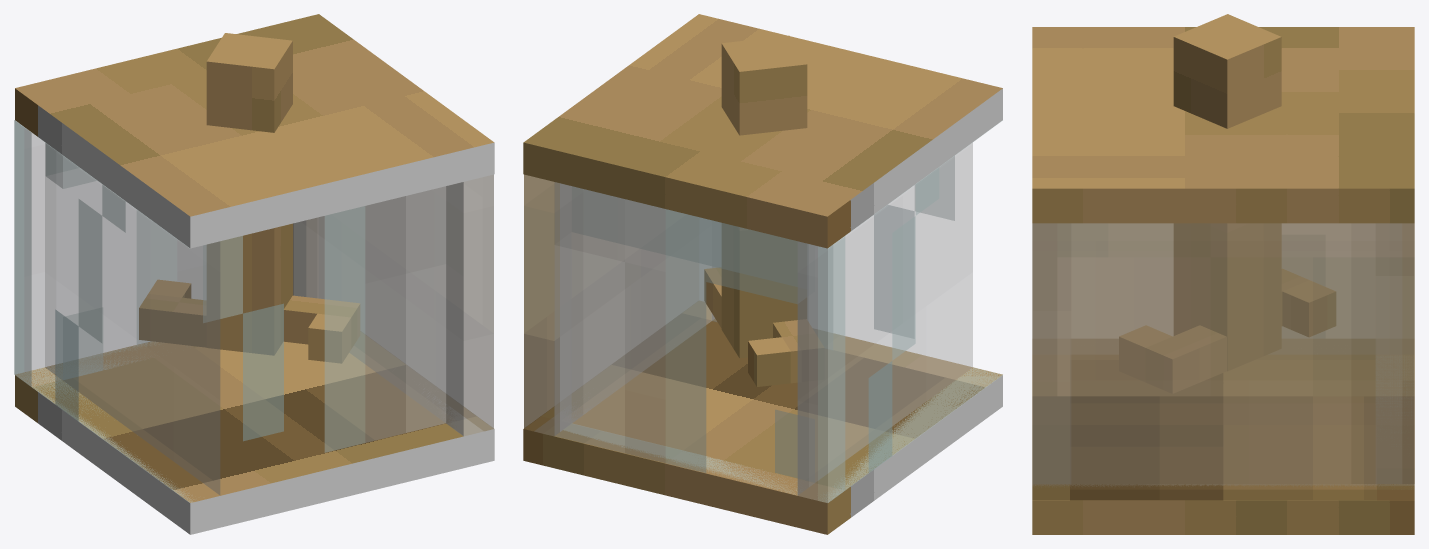
The model's file is blender.obj.
3 views of the same model, side by side, from view 1: azimuth 30°, elevation 25°; view 2: azimuth 150°, elevation 25°; view 3: azimuth 270°, elevation 25° (orthographic). The views are drawn at different scales.
Visible parts, largest first — view 1: cube.000, cube.001, cube.003, cube, cube.002, cube.006, cube.004, cube.007, cube.008, cube.005, cube.009; view 2: cube.001, cube.000, cube.004, cube.003, cube.002, cube.006, cube, cube.007, cube.009, cube.008; view 3: cube.002, cube.001, cube.000, cube.006, cube, cube.004, cube.008, cube.009, cube.003, cube.005.
Part boxes in pixels (left/top/right/bottom): cube.000: left=15, top=332, right=494, bottom=534; cube.001: left=15, top=14, right=494, bottom=248; cube.003: left=14, top=120, right=220, bottom=502; cube: left=203, top=182, right=463, bottom=452; cube.002: left=293, top=174, right=493, bottom=436; cube.006: left=206, top=33, right=292, bottom=355; cube.004: left=46, top=143, right=305, bottom=379; cube.007: left=139, top=294, right=206, bottom=347; cube.008: left=283, top=295, right=360, bottom=348; cube.005: left=308, top=313, right=351, bottom=363; cube.009: left=148, top=279, right=191, bottom=298; cube.001: left=523, top=14, right=1002, bottom=248; cube.000: left=523, top=301, right=1002, bottom=534; cube.004: left=554, top=182, right=814, bottom=494; cube.003: left=797, top=120, right=1002, bottom=502; cube.002: left=524, top=174, right=714, bottom=436; cube.006: left=721, top=35, right=807, bottom=358; cube: left=712, top=156, right=954, bottom=332; cube.007: left=773, top=319, right=824, bottom=383; cube.009: left=748, top=337, right=790, bottom=386; cube.008: left=704, top=267, right=721, bottom=327; cube.002: left=1032, top=223, right=1414, bottom=499; cube.001: left=1032, top=27, right=1414, bottom=223; cube.000: left=1032, top=354, right=1414, bottom=534; cube.006: left=1173, top=14, right=1281, bottom=370; cube: left=1033, top=223, right=1070, bottom=483; cube.004: left=1376, top=223, right=1413, bottom=483; cube.008: left=1146, top=326, right=1226, bottom=393; cube.009: left=1282, top=280, right=1335, bottom=336; cube.003: left=1282, top=235, right=1325, bottom=338; cube.005: left=1119, top=325, right=1171, bottom=381.
Size of the model in its own units: 0.6258 by 0.75 by 0.625.
